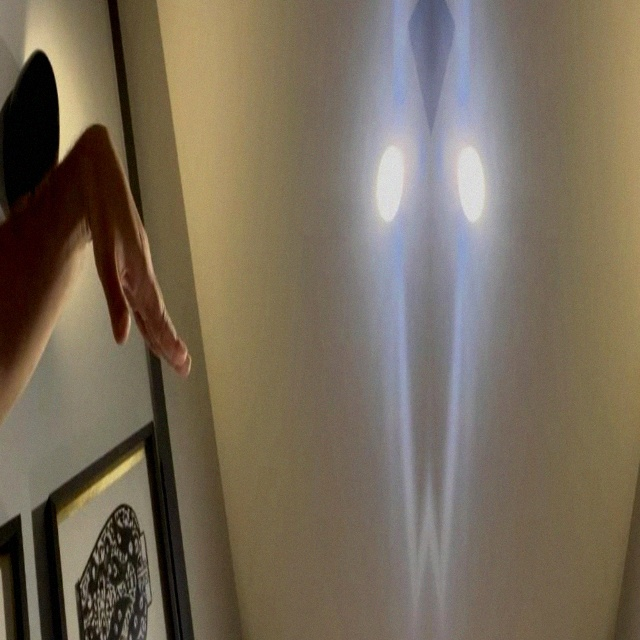Paper: (68, 114, 202, 381)
